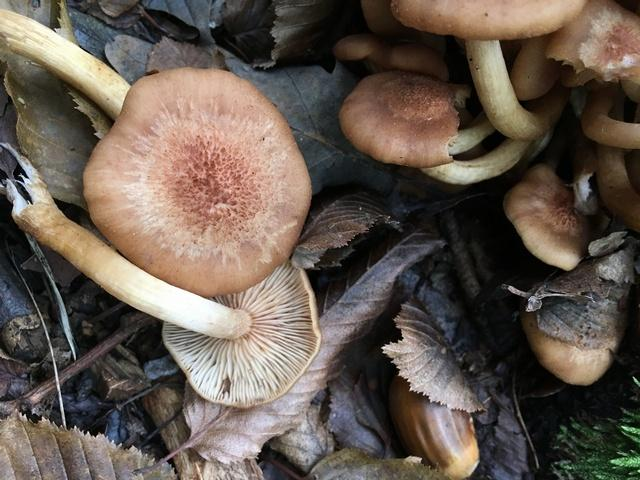Edible Mushroom: (0, 8, 323, 408), (337, 1, 640, 250)
